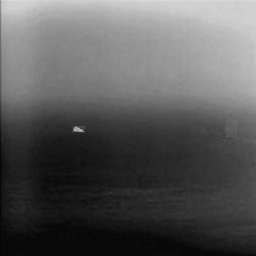Target: (71, 125, 85, 133)
